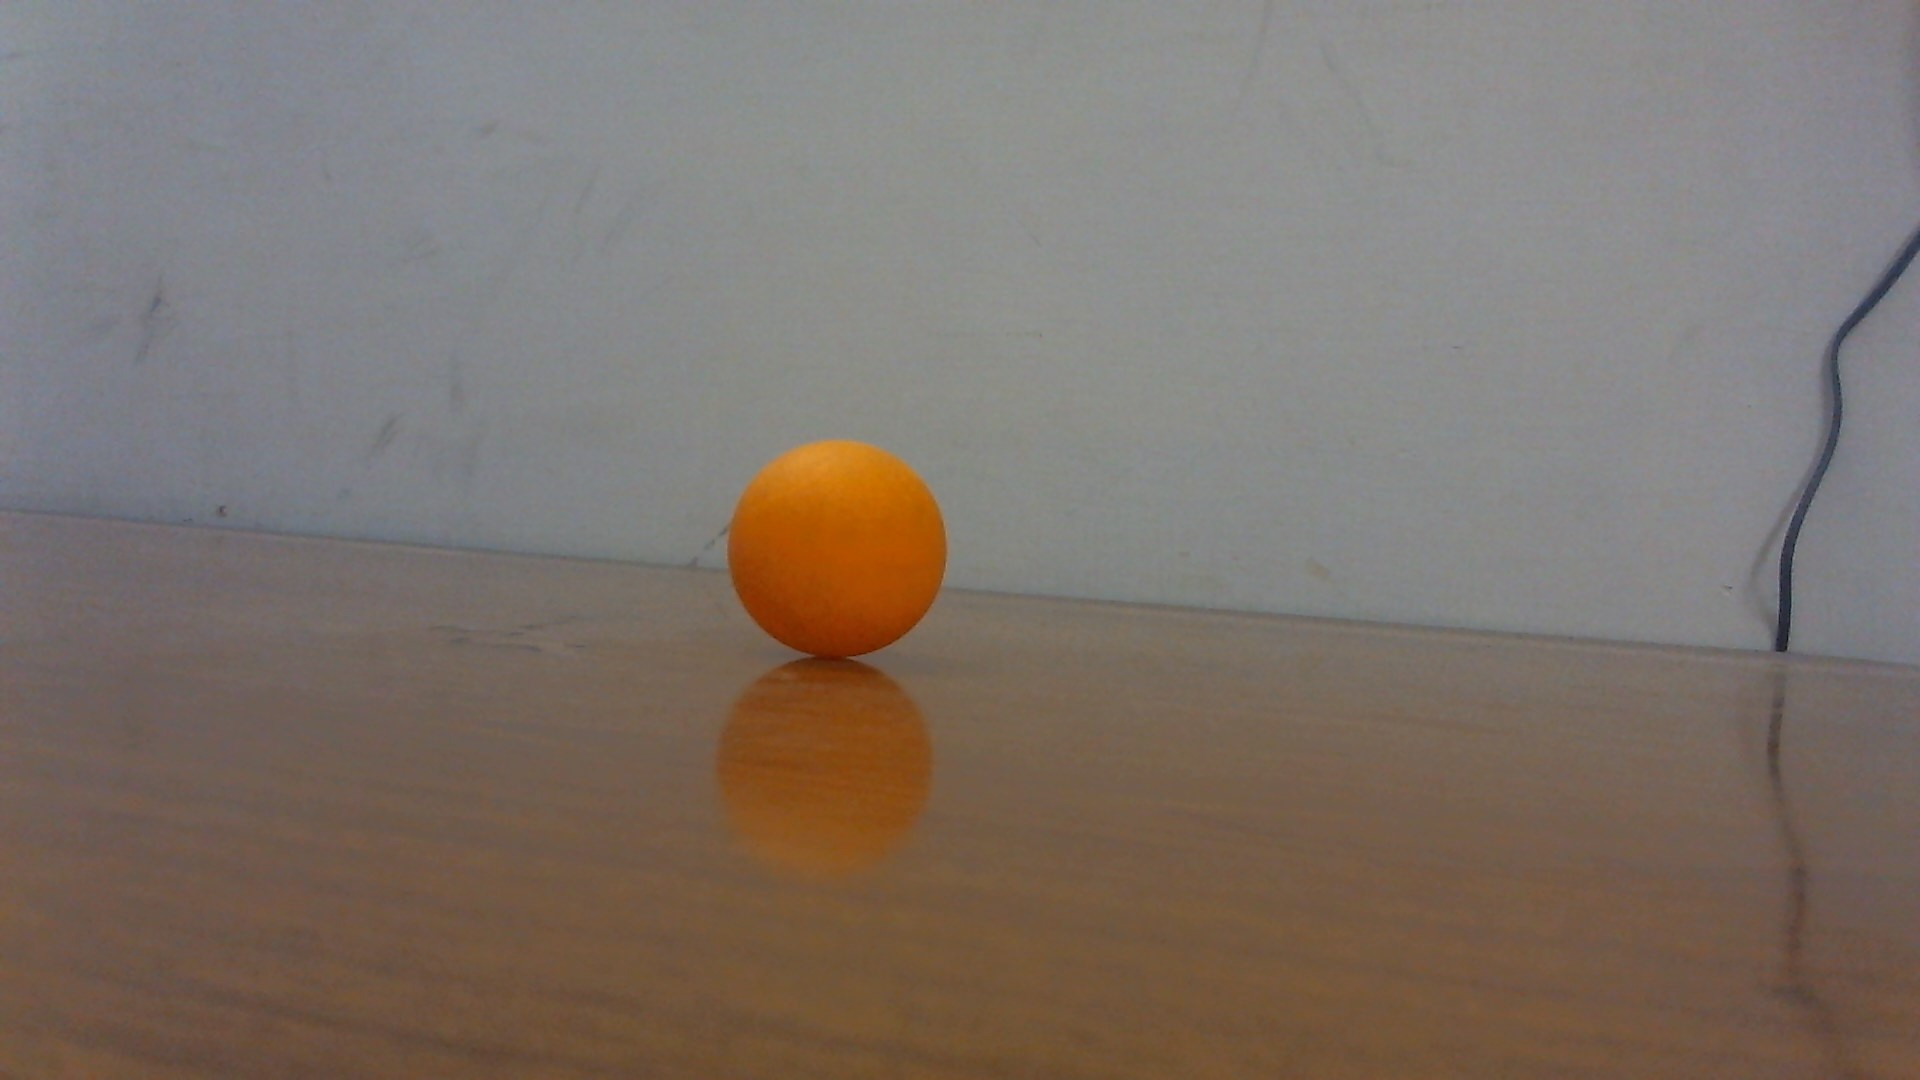ball: (727, 440, 948, 658)
